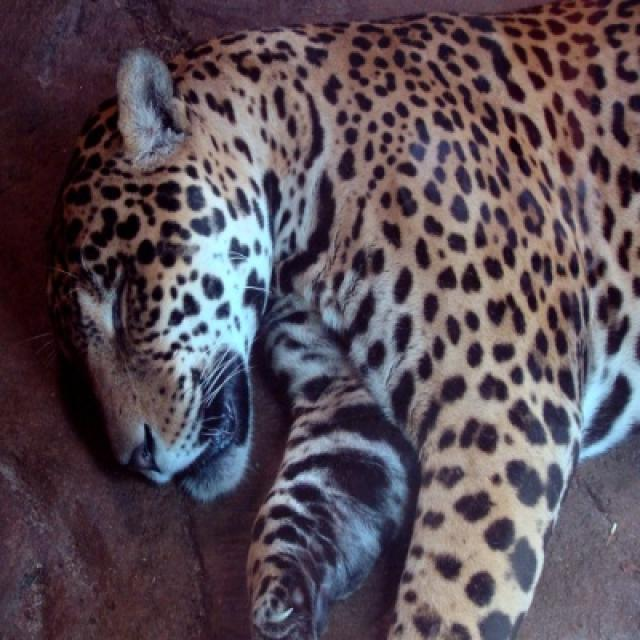Jaguar: (43, 0, 638, 638)
